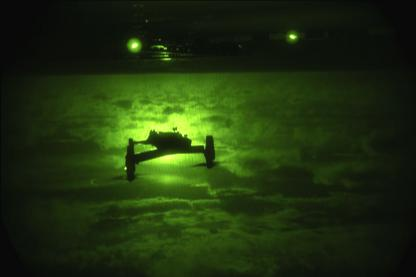Tornado: (90, 127, 242, 187)
